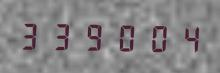four: (168, 21, 197, 54)
nine: (78, 19, 107, 52)
three: (47, 18, 76, 52), (17, 18, 46, 51)
zero: (108, 19, 137, 53), (138, 20, 167, 53)
